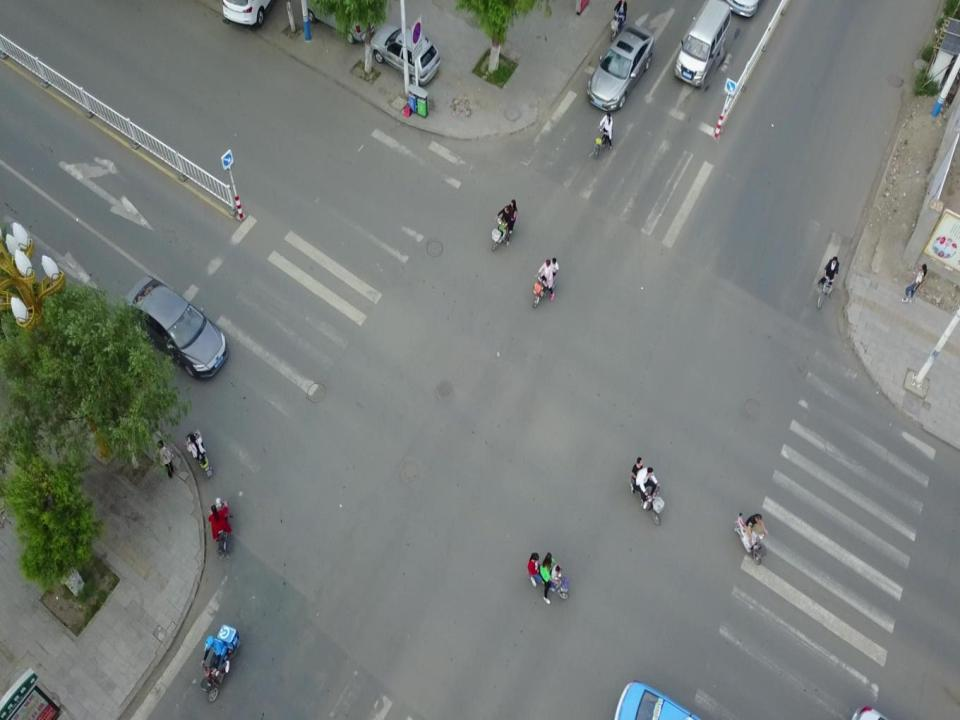car: (123, 275, 228, 378), (586, 24, 654, 112), (369, 24, 441, 88), (612, 680, 705, 720), (222, 0, 277, 26)
van: (673, 0, 731, 89), (302, 0, 382, 44)
